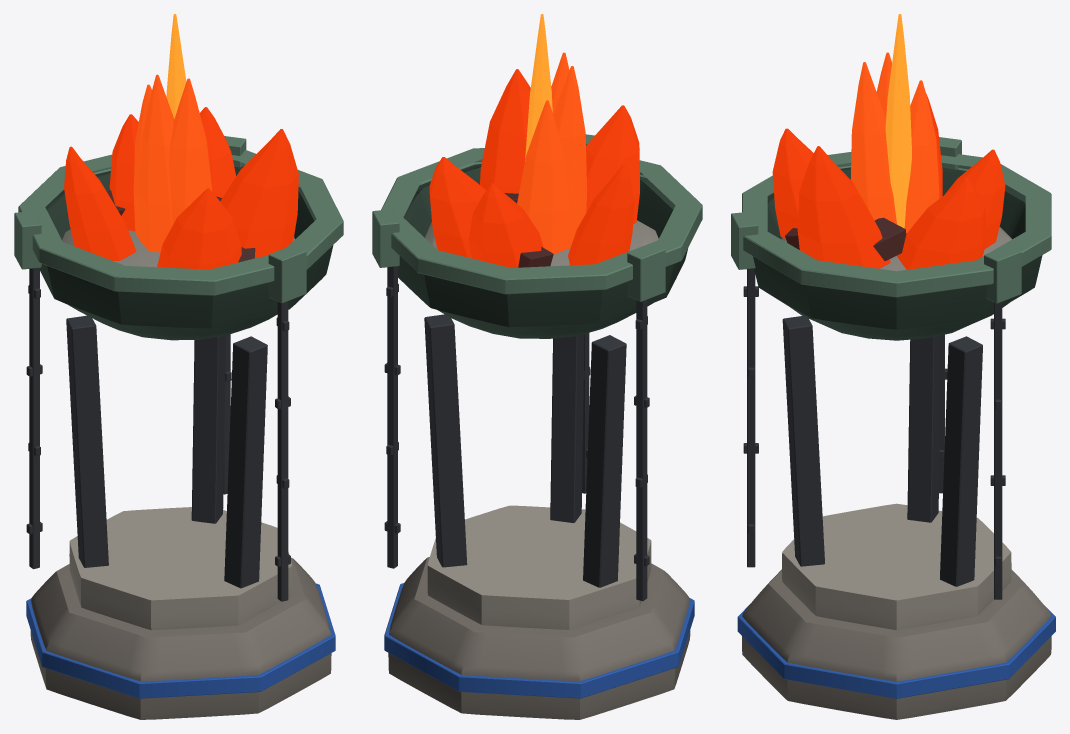
3 renders of one model, left to right at view 1: azimuth 30°, elevation 25°; view 2: azimuth 150°, elevation 25°; view 3: azimuth 270°, elevation 25°, orthographic.
Visible parts, largest first — view 1: BZ-iron, BZ-stone_mid, BZ-flame_out, BZ-stone_light, BZ-bronze, BZ-bronze_dark, BZ-ember, BZ-team, BZ-flame_in, BZ-ash; view 2: BZ-iron, BZ-stone_mid, BZ-flame_out, BZ-stone_light, BZ-bronze, BZ-bronze_dark, BZ-ember, BZ-team, BZ-flame_in, BZ-ash, BZ-coal; view 3: BZ-iron, BZ-stone_mid, BZ-stone_light, BZ-flame_out, BZ-bronze, BZ-bronze_dark, BZ-ember, BZ-team, BZ-flame_in, BZ-coal, BZ-ash.
Boxes of the visible parts, left/top/right/bottom form: BZ-iron: left=26, top=268, right=290, bottom=601; BZ-stone_mid: left=30, top=557, right=331, bottom=719; BZ-flame_out: left=64, top=107, right=298, bottom=269; BZ-stone_light: left=69, top=507, right=292, bottom=630; BZ-bronze: left=14, top=136, right=343, bottom=303; BZ-bronze_dark: left=40, top=166, right=333, bottom=340; BZ-ember: left=133, top=74, right=212, bottom=252; BZ-team: left=26, top=583, right=335, bottom=698; BZ-flame_in: left=166, top=14, right=186, bottom=118; BZ-ash: left=62, top=229, right=294, bottom=267; BZ-iron: left=384, top=266, right=649, bottom=601; BZ-stone_mid: left=388, top=557, right=690, bottom=719; BZ-flame_out: left=429, top=69, right=639, bottom=267; BZ-stone_light: left=427, top=505, right=651, bottom=629; BZ-bronze: left=372, top=134, right=702, bottom=301; BZ-bronze_dark: left=397, top=164, right=687, bottom=338; BZ-ember: left=517, top=52, right=587, bottom=254; BZ-team: left=384, top=583, right=694, bottom=698; BZ-flame_in: left=525, top=14, right=552, bottom=160; BZ-ash: left=425, top=220, right=658, bottom=266; BZ-coal: left=504, top=193, right=553, bottom=267; BZ-iron: left=743, top=268, right=1005, bottom=599; BZ-stone_mid: left=742, top=569, right=1051, bottom=719; BZ-stone_light: left=782, top=503, right=1011, bottom=630; BZ-flame_out: left=772, top=93, right=1005, bottom=269; BZ-bronze: left=731, top=137, right=1051, bottom=303; BZ-bronze_dark: left=753, top=167, right=1042, bottom=340; BZ-ember: left=850, top=52, right=939, bottom=233; BZ-team: left=737, top=604, right=1055, bottom=698; BZ-flame_in: left=885, top=14, right=911, bottom=228; BZ-coal: left=785, top=217, right=906, bottom=260; BZ-ash: left=781, top=227, right=1011, bottom=271.
Bounding box in the file's own units: 0.9614 × 2.08 × 0.9577.
